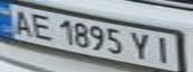1: (51, 17, 75, 46)
5: (103, 25, 127, 56)
8: (69, 20, 90, 50)
9: (87, 22, 106, 52)
A: (6, 7, 36, 37)
E: (27, 11, 57, 42)
I: (148, 34, 178, 65)
Y: (127, 29, 157, 61)
